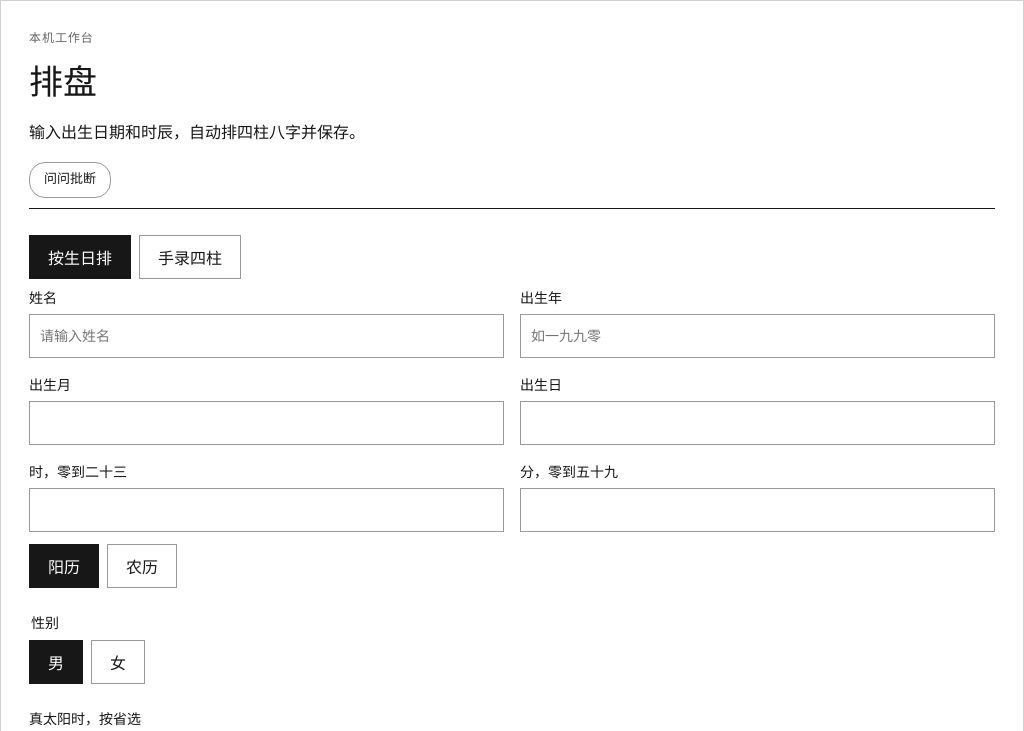
it: ChartPage simplified form › 手录模式仍显示出生年月两栏、隐藏日/时/分
Expected: the number field labelled "出生日" is shown, [520,401,995,445]
Step 1. Click the button "手录四柱" → (190, 257), box [139,235,241,279]
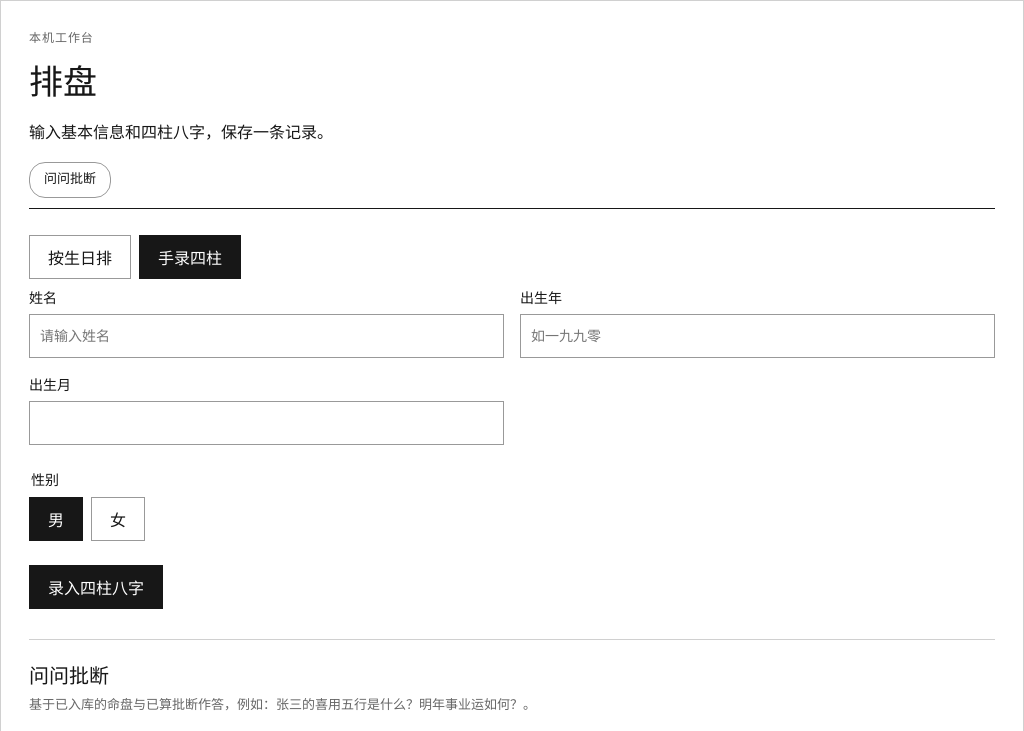
Expected: the number field labelled "出生月" is shown, [29,401,504,445]
Result: the text labelled "出生日" is gone
Result: the label labelled "时，零到二十三" is gone
